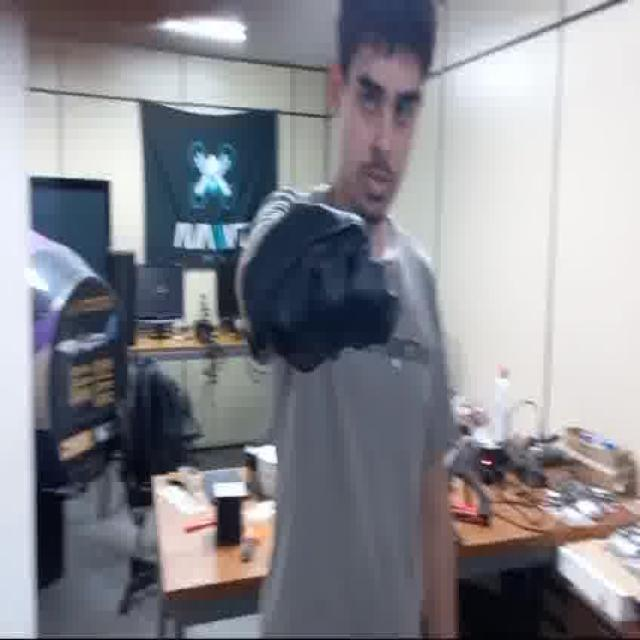Gloves: (248, 205, 412, 388)
